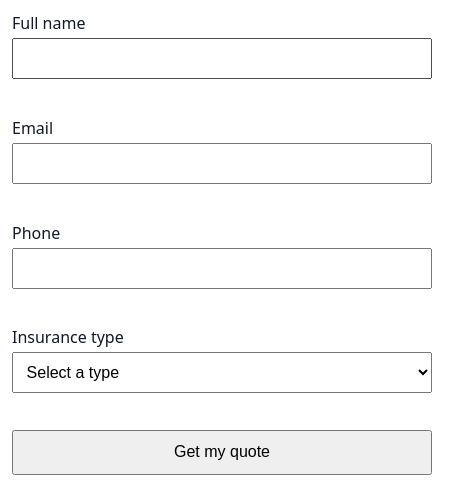
Test: QuoteForm › shows errors and focuses the first invalid field on empty submit
What coordinates should you click on to do the following:
click the button "Get my quote"
I would click on:
 (222, 452)
Its box is [12,430,432,474].
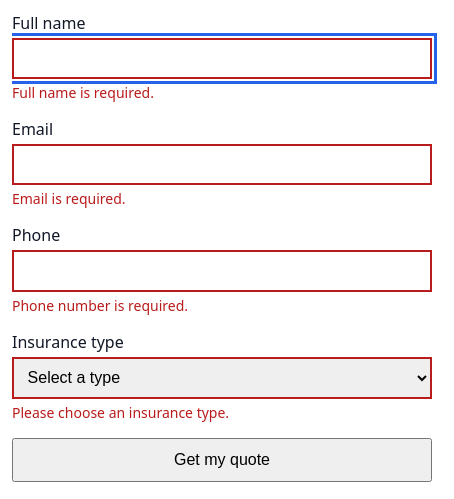
Result: the text "Full name is required." is shown at [12,83,154,102]
Result: the text "Email is required." is shown at [12,189,126,208]
Result: the text "Phone number is required." is shown at [12,296,188,315]
